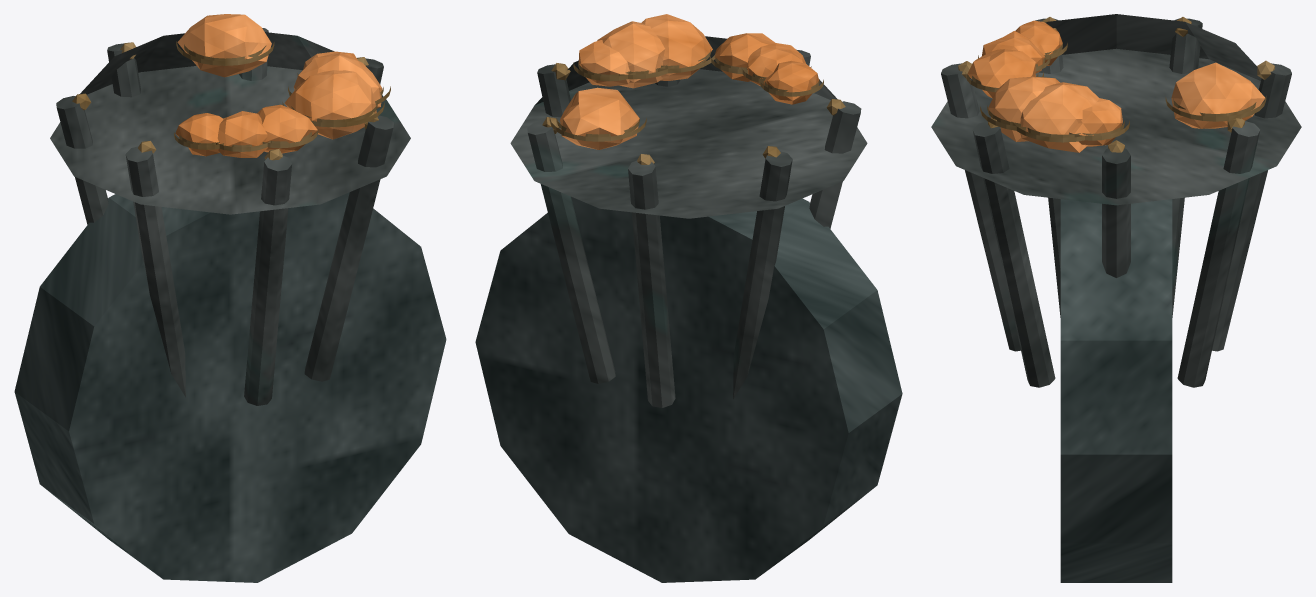
File: 0528_brazier_03.glb
The picture shows the model from 3 angles, left to right: view 1: azimuth 30°, elevation 25°; view 2: azimuth 150°, elevation 25°; view 3: azimuth 270°, elevation 25°; orthographic projection. The views are drawn at different scales.
Parts seen in each view (by area): view 1: stone_dark, iron, amber, brass; view 2: stone_dark, iron, amber, brass; view 3: iron, stone_dark, amber, brass.
Boxes of the visible parts, left/top/right/bottom form: stone_dark: left=14, top=192, right=446, bottom=582; iron: left=50, top=28, right=410, bottom=405; amber: left=175, top=14, right=382, bottom=157; brass: left=72, top=41, right=390, bottom=160; stone_dark: left=475, top=196, right=902, bottom=582; iron: left=510, top=36, right=867, bottom=407; amber: left=560, top=14, right=818, bottom=149; brass: left=542, top=49, right=845, bottom=164; iron: left=931, top=14, right=1301, bottom=387; stone_dark: left=1060, top=199, right=1172, bottom=582; amber: left=967, top=20, right=1265, bottom=152; brass: left=958, top=17, right=1274, bottom=152.
Bounding box in the file's own units: 1.4 × 1.79 × 1.16.
4 materials, 4 textured.
